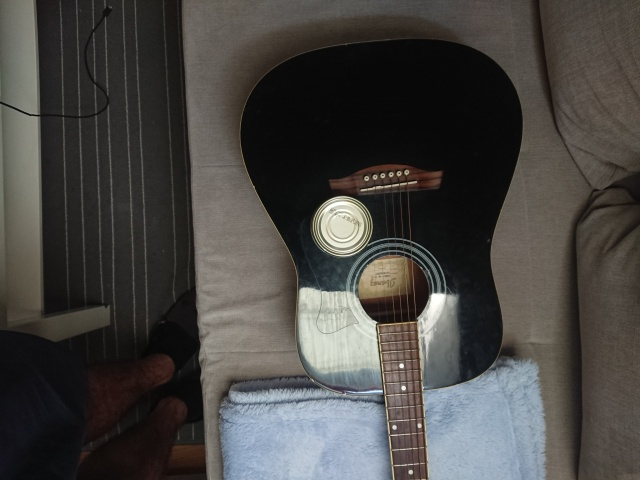Giana Tuna Salad Mexico 185g: (306, 194, 376, 261)
